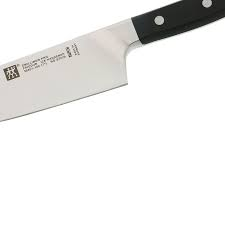knife: (1, 1, 224, 126)
